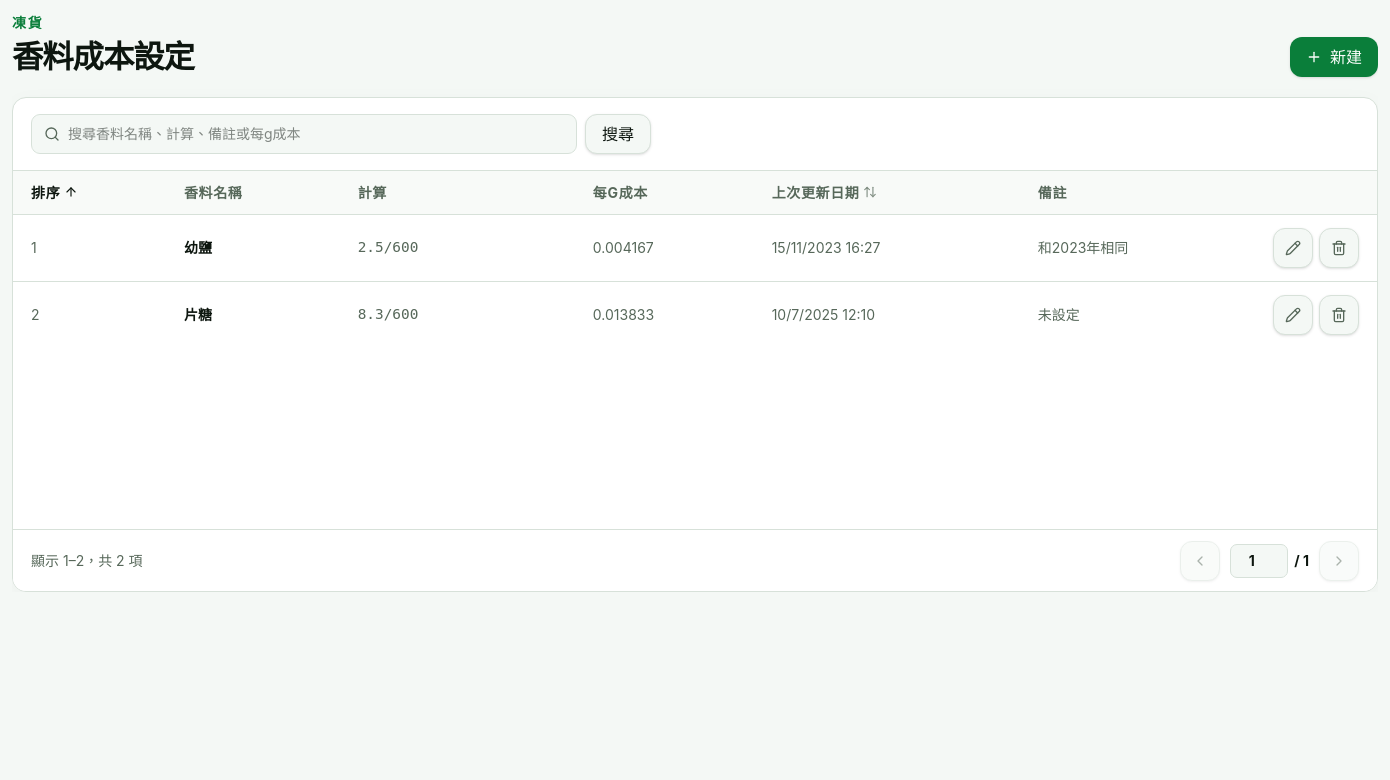
Test: Seasoning cost settings page › filters the table from the search bar
expect the text "幼鹽" is shown: met, box [184, 239, 212, 256]
Type "片糖" into the search field with placeholder "搜尋香料名稱、計算、備註或每g成本". click: (316, 134)
box: [68, 115, 564, 153]
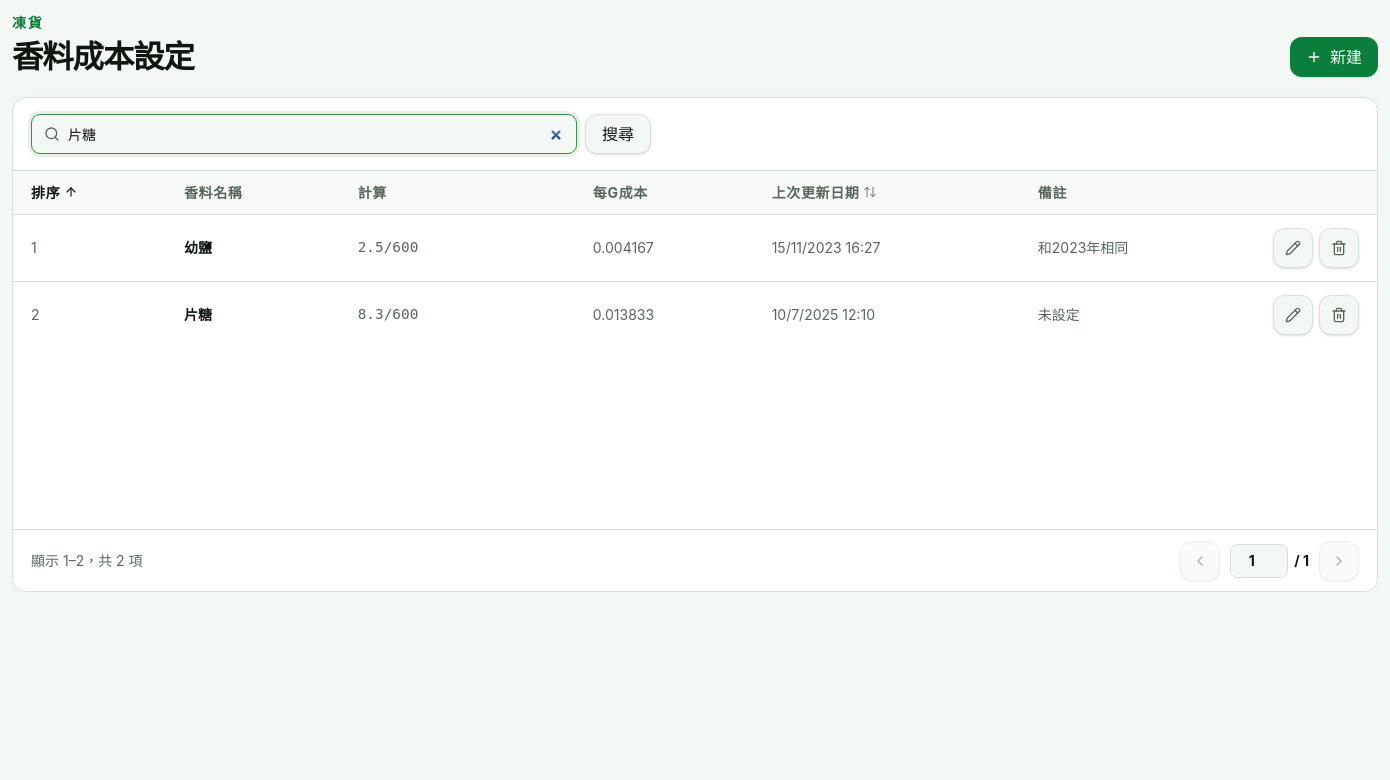
Click the button "搜尋". click: click(618, 134)
box: [585, 114, 651, 154]
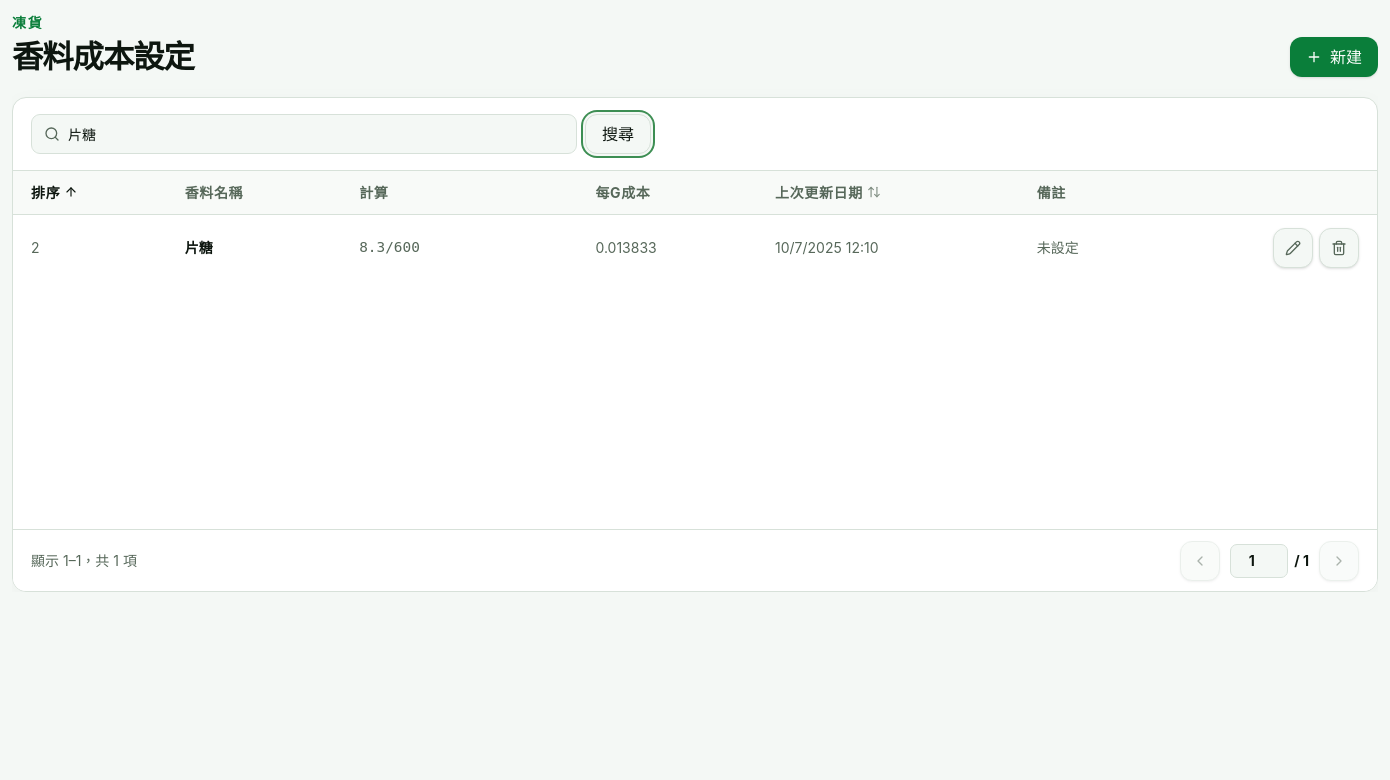
expect the text "片糖" is shown: met, box [185, 239, 213, 256]
expect the text "幼鹽" is gone: met
